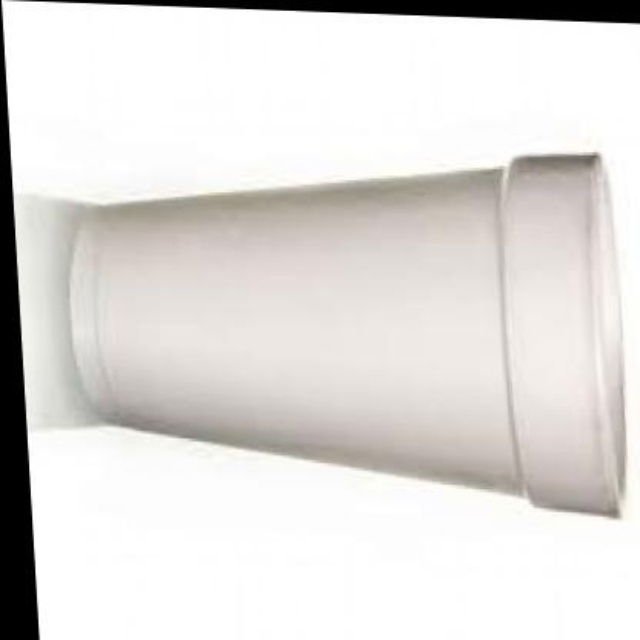trash: (66, 154, 623, 514)
